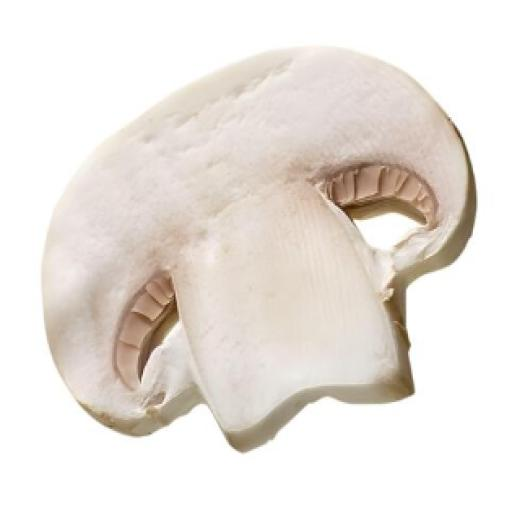Button Mushroom: (37, 41, 481, 457)
